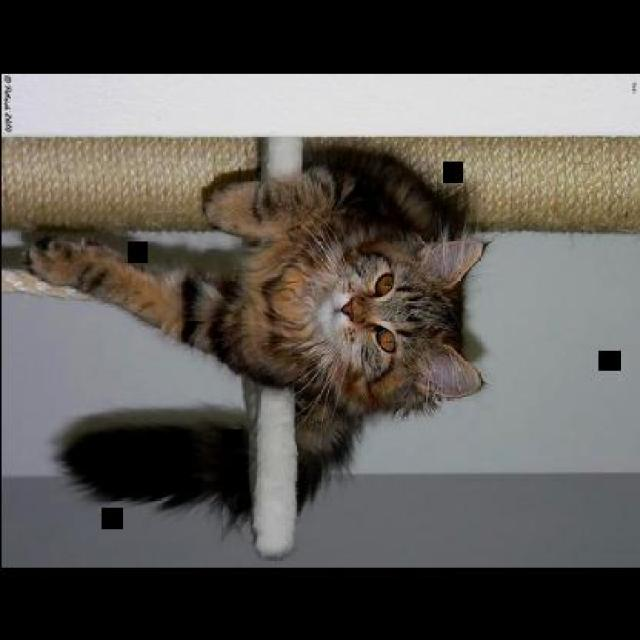unauthorized: (24, 142, 493, 558)
